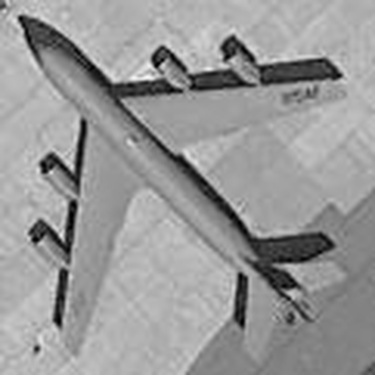airplane: (20, 5, 358, 374)
